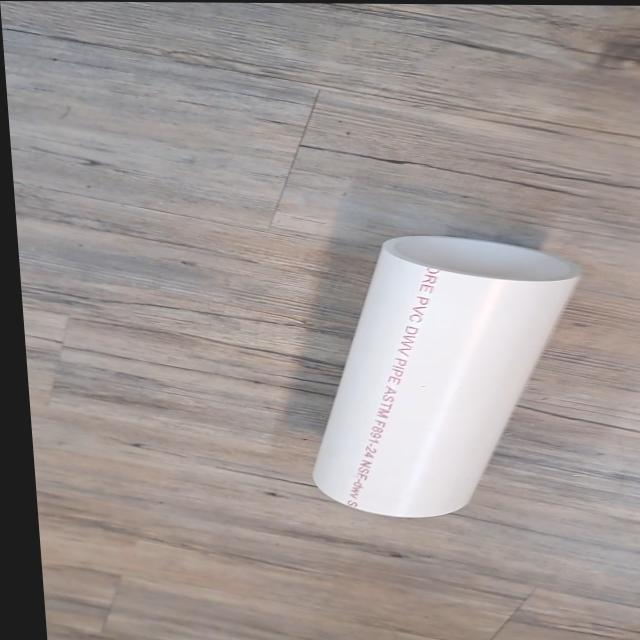CORAL: (290, 230, 608, 522)
